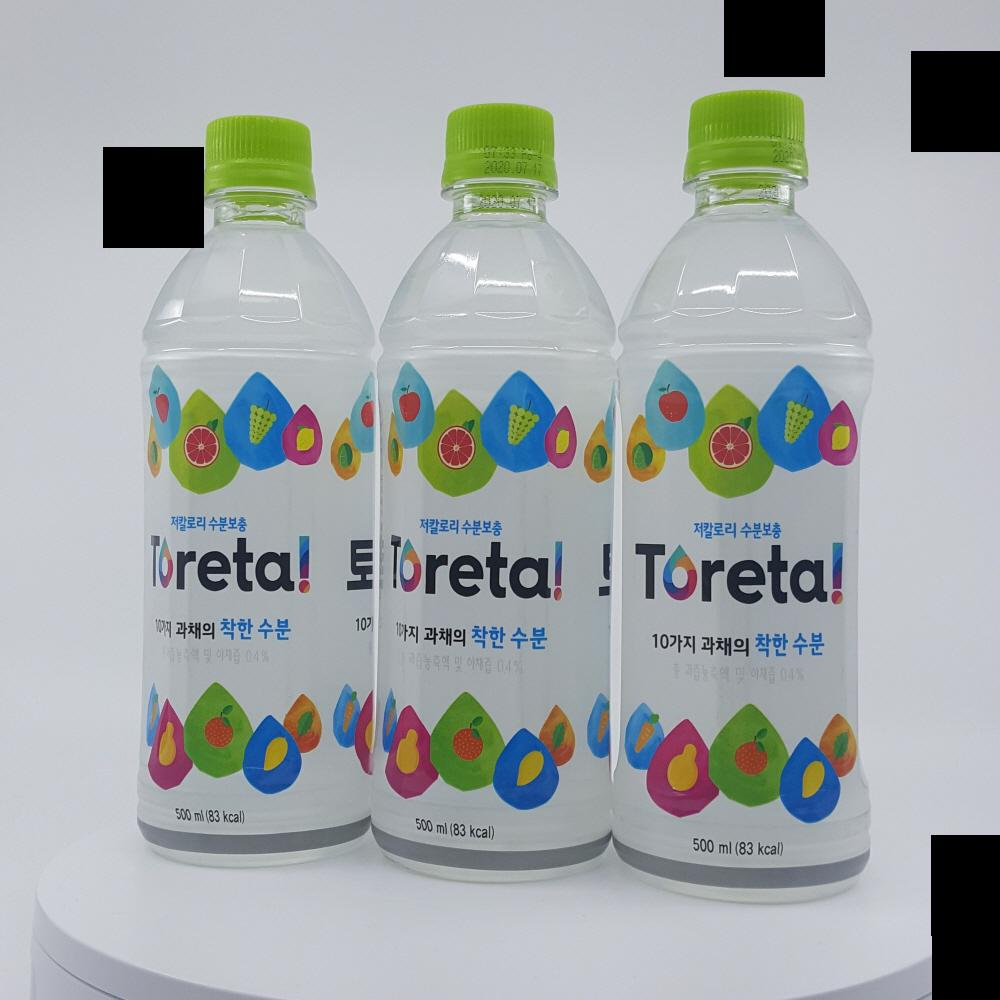toreta: (629, 87, 890, 907), (129, 103, 371, 877), (382, 101, 618, 878)
